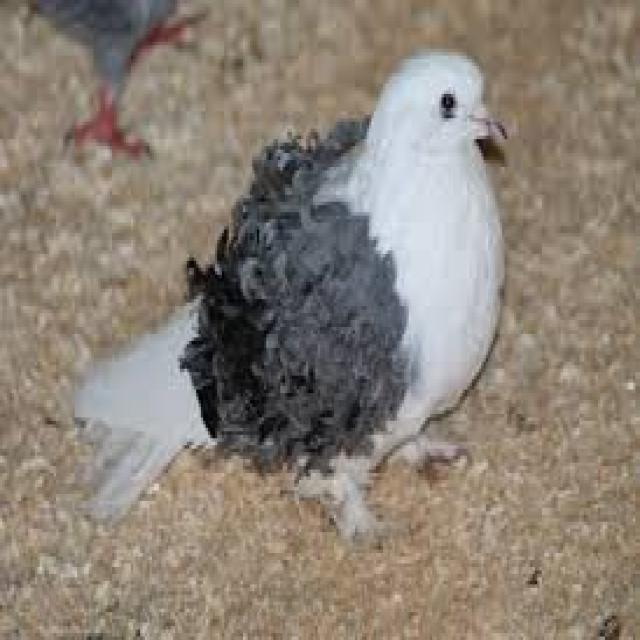Pigeon: (67, 48, 517, 542)
